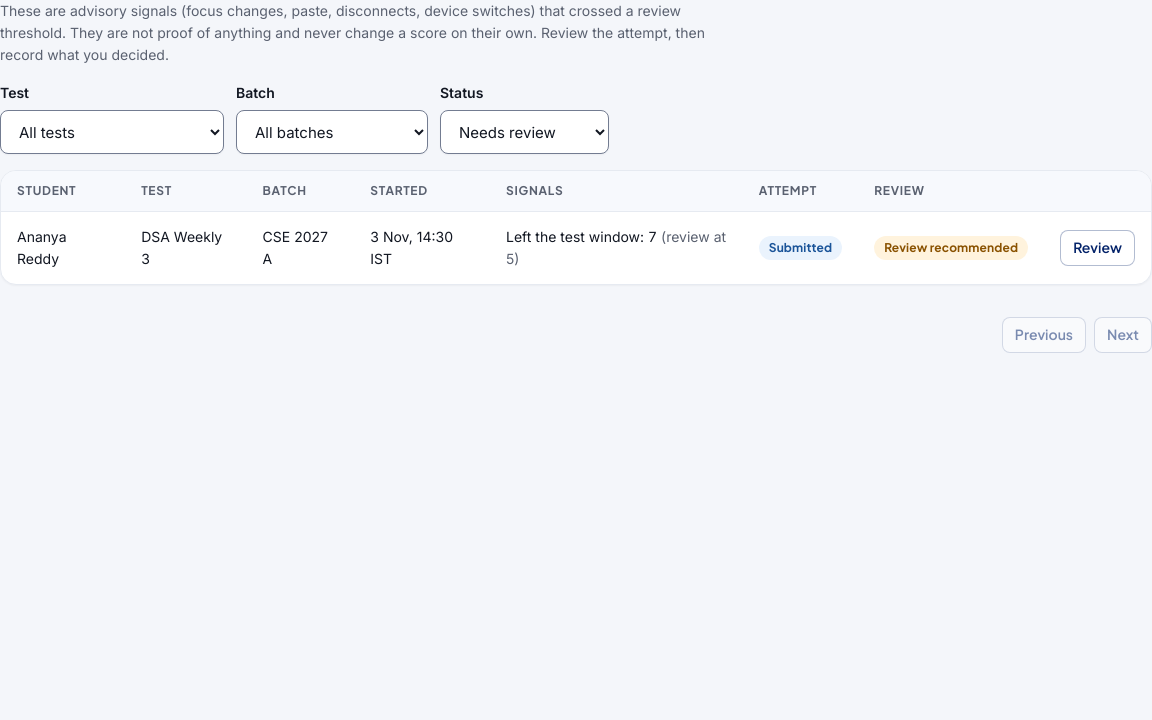
Scenario: IntegrityReview (TRN-010) › lists advisory flags and records a decision with a required note
The width and height of the screenshot is (1152, 720).
Expected: the list item "Left the test window: 7 (review at 5)" is shown, [506, 226, 727, 270]
Expected: the text "Review recommended" is shown, [874, 236, 1028, 260]
Click the button with aria-label "Review Ananya Reddy": (1098,248) [1060, 230, 1135, 266]
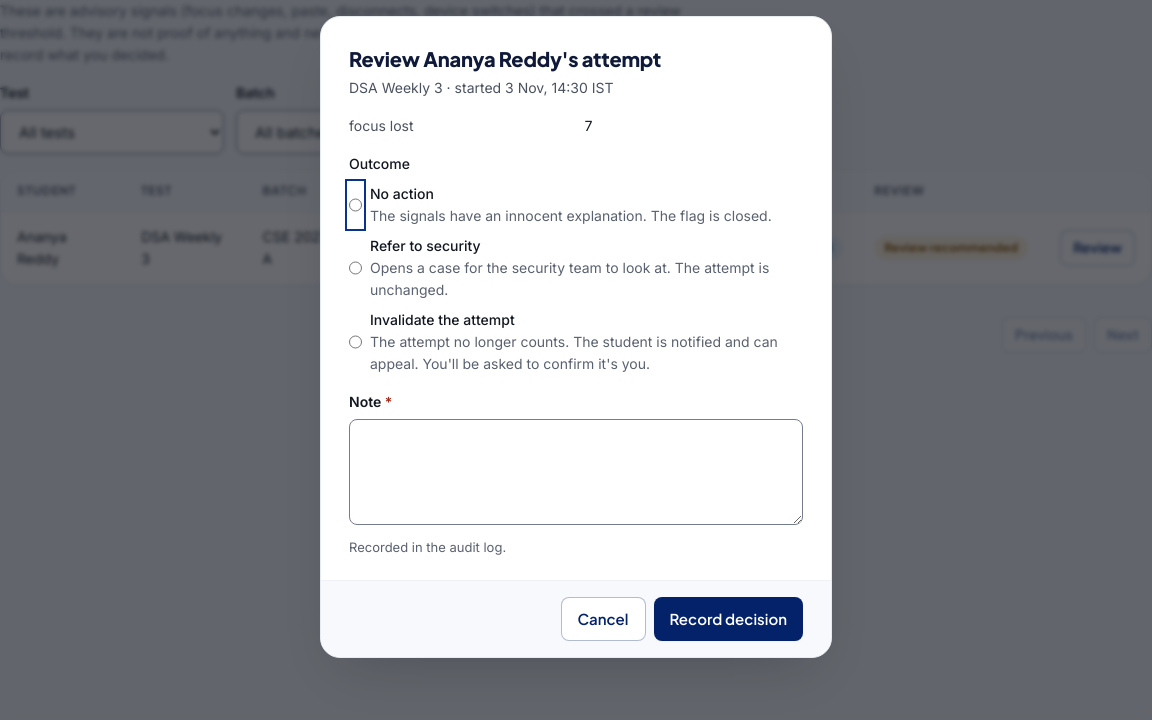
Click the button "Record decision": (728,620) [654, 598, 803, 642]
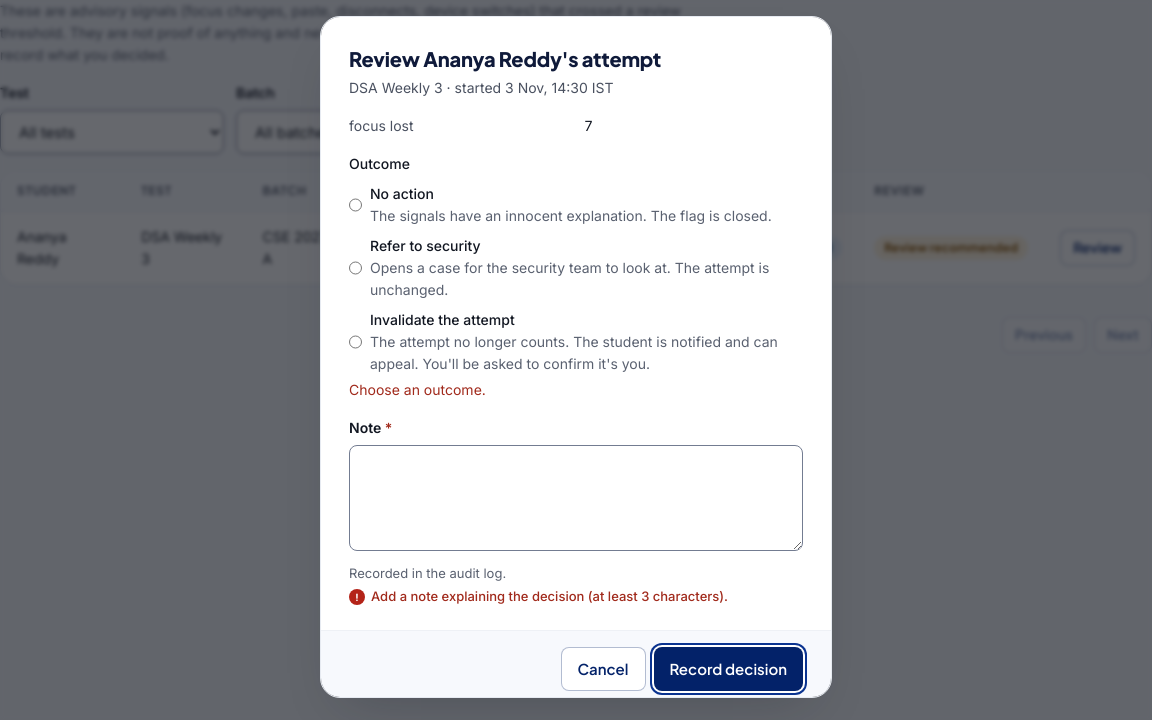
Expected: the text "Choose an outcome." is shown, [349, 381, 486, 398]
Expected: the text "Add a note explaining the decision (at least 3 characters)." is shown, [371, 588, 728, 604]
Click the radio button labelled "Refer to security": (356,268) [349, 235, 362, 301]
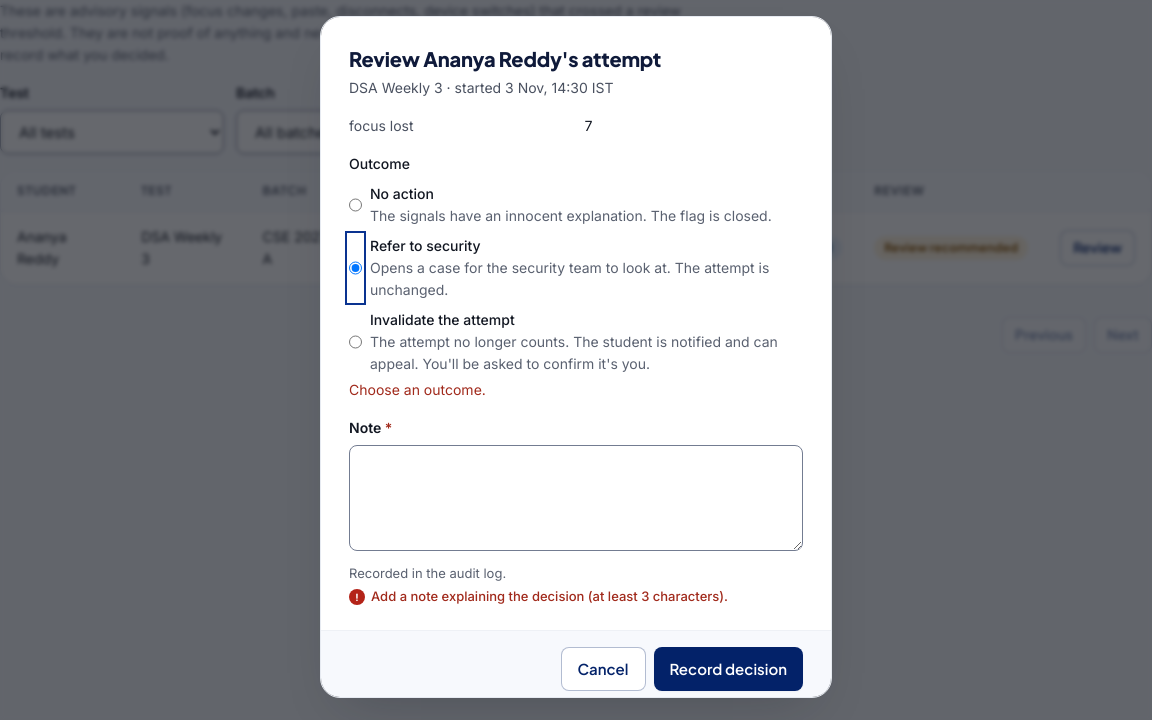
In the text box labelled "Note *": (576,498) [349, 445, 803, 551], type "Repeated focus loss during coding section"
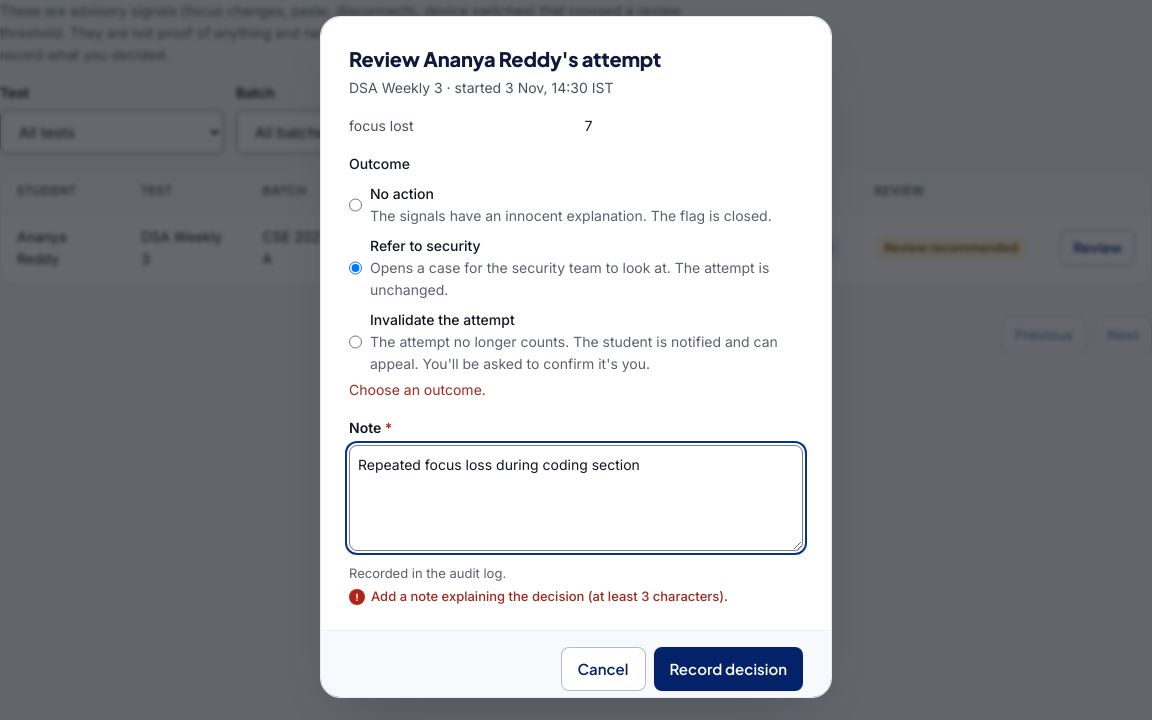
Click the button "Record decision": (728,669) [654, 647, 803, 691]
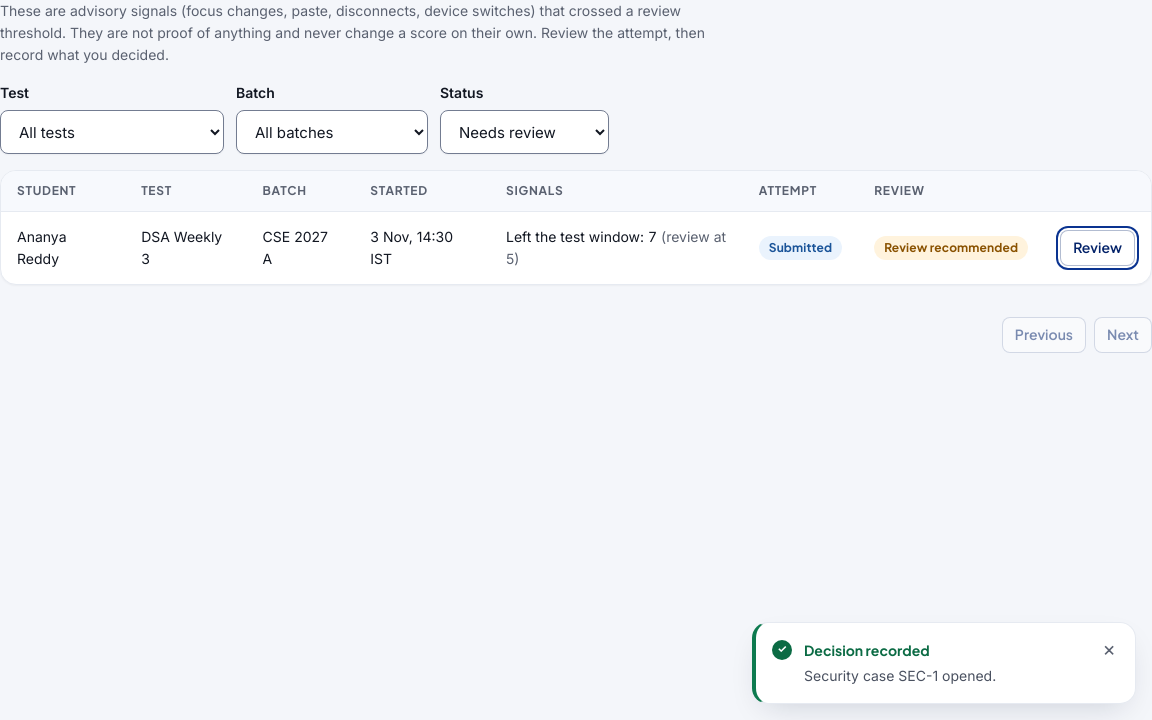
Expected: the text "Security case SEC-1 opened." is shown, [804, 667, 996, 684]
